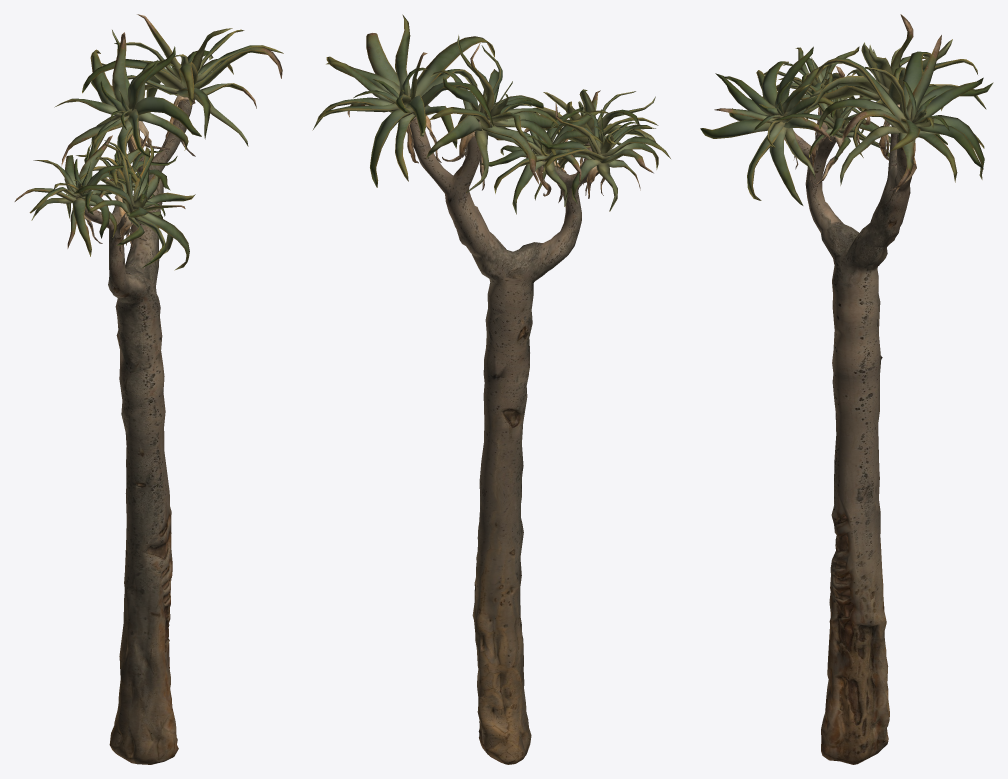
Rendered from bg_quiver_tree_01.glb.
3 views of the same model, side by side, from view 1: azimuth 30°, elevation 25°; view 2: azimuth 150°, elevation 25°; view 3: azimuth 270°, elevation 25° (orthographic). The views are drawn at different scales.
Parts seen in each view (by area): view 1: bg_quiver_tree_01; view 2: bg_quiver_tree_01; view 3: bg_quiver_tree_01.
Boxes of the visible parts, <box> form: bg_quiver_tree_01: <box>14,14,283,764</box>; bg_quiver_tree_01: <box>312,14,670,764</box>; bg_quiver_tree_01: <box>700,14,993,764</box>.
Size of the model in its own units: 2.61 by 6 by 2.14.
1 material, 1 textured.
